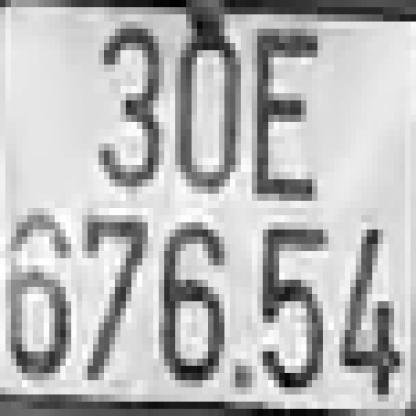0: (176, 43, 236, 194)
3: (99, 29, 158, 193)
4: (339, 222, 394, 388)
5: (258, 222, 318, 380)
6: (11, 208, 71, 373), (159, 215, 219, 373)
7: (82, 215, 148, 373)
E: (252, 36, 317, 201)
